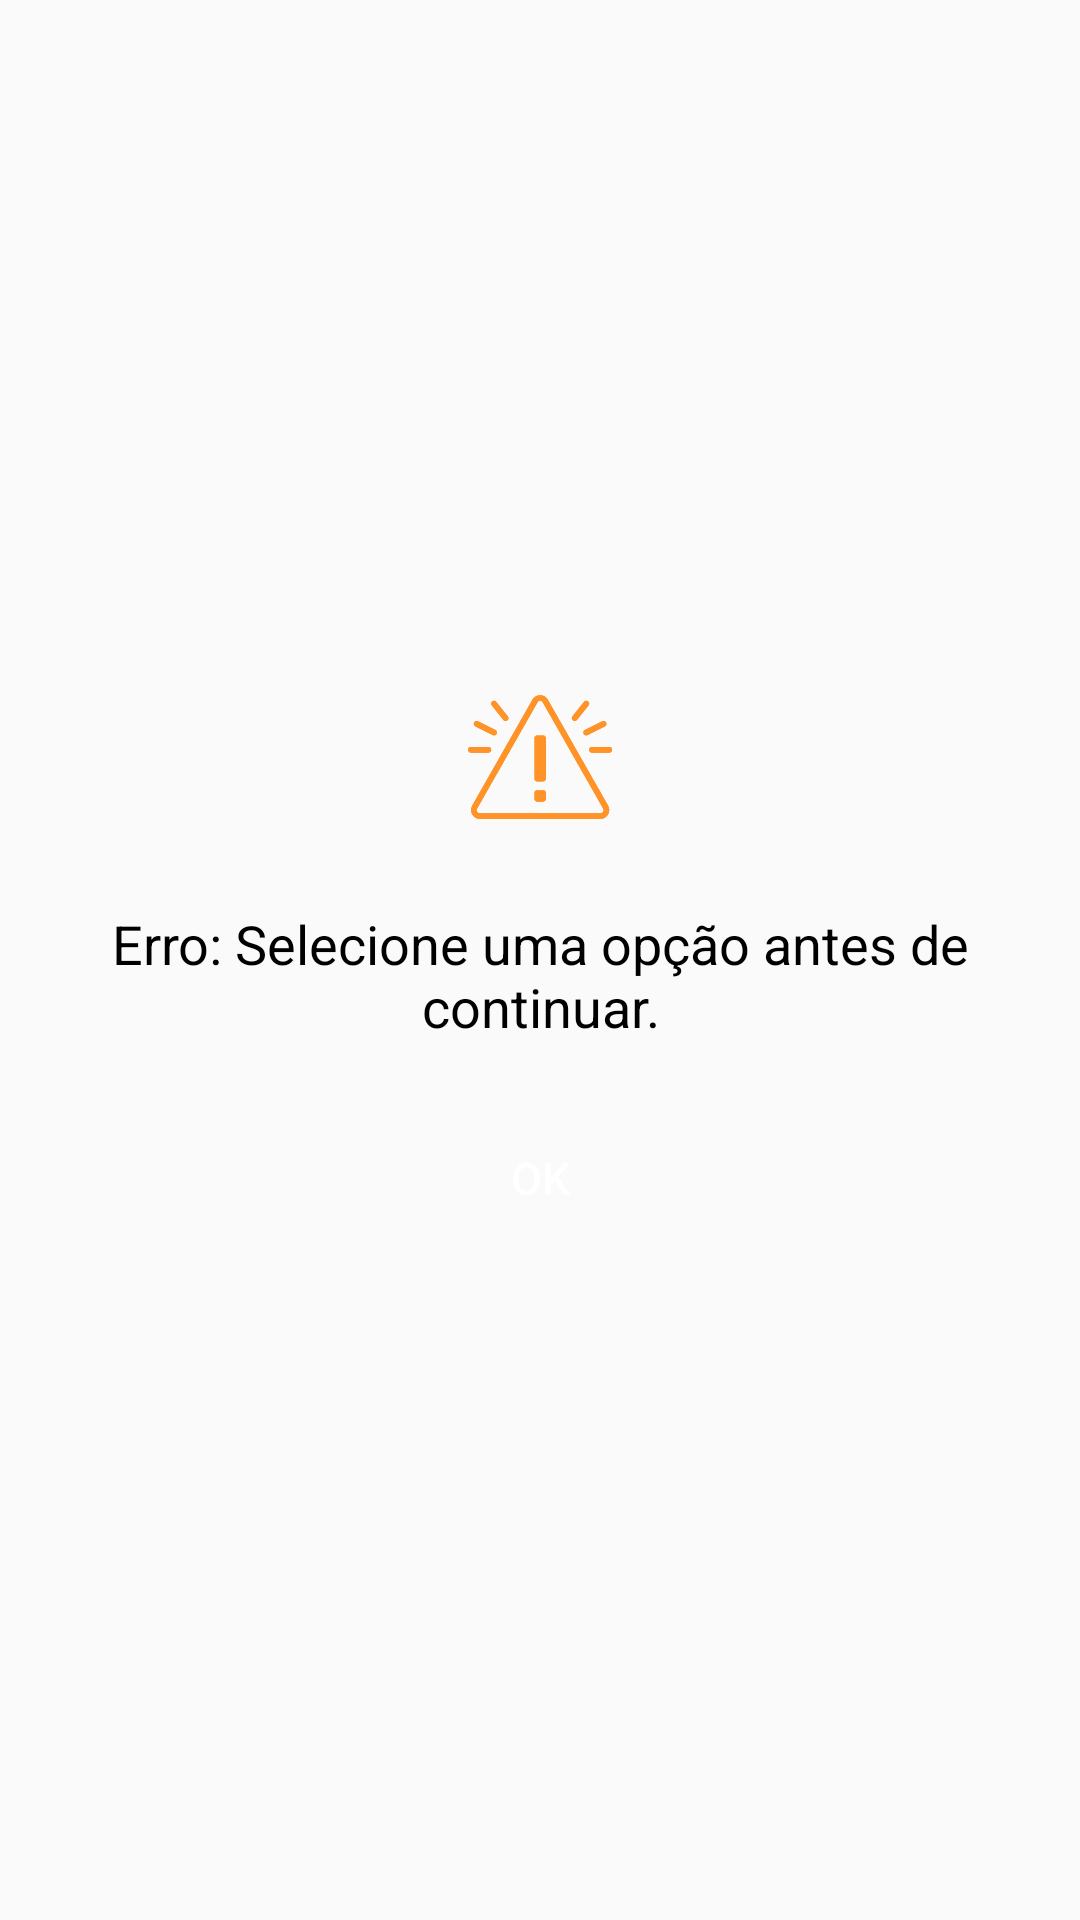

Screen size 1080 x 1920. Icon name, then its center in pixels as (x,y):
error: (540,757)
